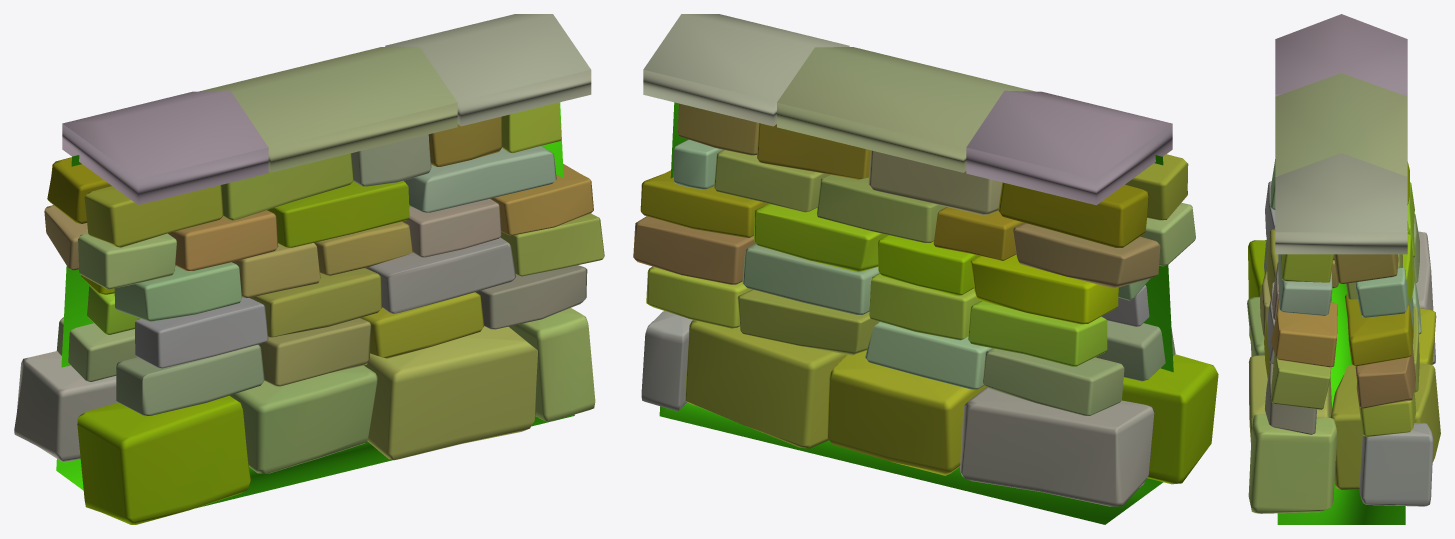
Rendered from SM_Prop_wall_stone_22.glb.
3 renders of one model, left to right at view 1: azimuth 30°, elevation 25°; view 2: azimuth 150°, elevation 25°; view 3: azimuth 270°, elevation 25°, orthographic. The views are drawn at different scales.
Parts seen in each view (by area): view 1: SM_Prop_wall_stone_22; view 2: SM_Prop_wall_stone_22; view 3: SM_Prop_wall_stone_22.
Part boxes in pixels (left/top/right/bottom): SM_Prop_wall_stone_22: left=14, top=14, right=604, bottom=524; SM_Prop_wall_stone_22: left=633, top=14, right=1218, bottom=524; SM_Prop_wall_stone_22: left=1247, top=14, right=1440, bottom=524.
Bounding box in the file's own units: 2.23 × 1.57 × 0.8495.
